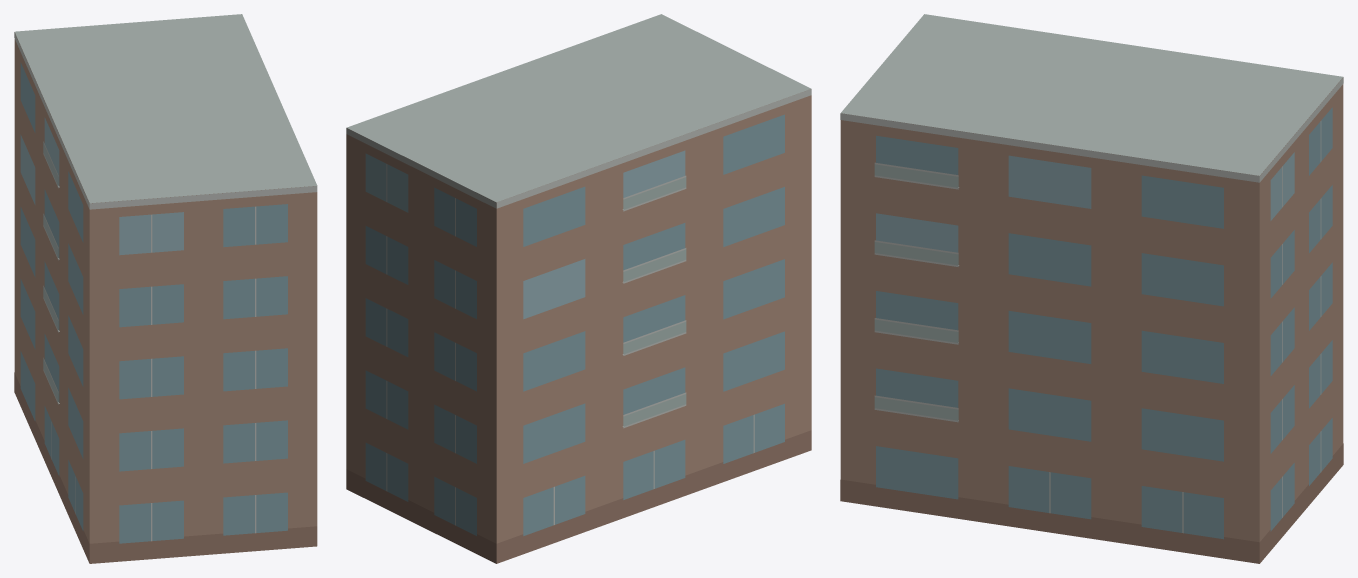
File: survey-upis-32882633.glb
The picture shows the model from 3 angles, left to right: view 1: azimuth 30°, elevation 25°; view 2: azimuth 150°, elevation 25°; view 3: azimuth 270°, elevation 25°; orthographic projection. The views are drawn at different scales.
Visible parts, largest first — view 1: survey-upis-32882633.tmp; view 2: survey-upis-32882633.tmp; view 3: survey-upis-32882633.tmp.
Part boxes in pixels (x1,y1,x2,y2): survey-upis-32882633.tmp: [14, 14, 317, 563]; survey-upis-32882633.tmp: [346, 14, 811, 563]; survey-upis-32882633.tmp: [840, 14, 1343, 563].
Size of the model in its own units: 12.45 by 13.9 by 16.34.
